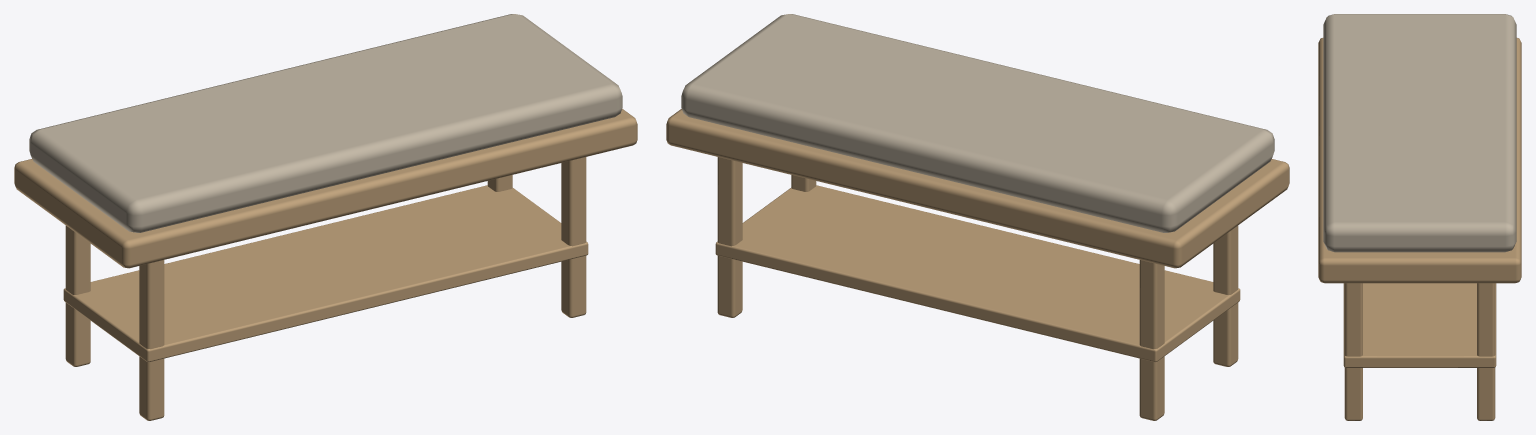
Rendered from bench-balanced-850dfff04f.glb.
The picture shows the model from 3 angles, left to right: view 1: azimuth 30°, elevation 25°; view 2: azimuth 150°, elevation 25°; view 3: azimuth 270°, elevation 25°; orthographic projection. The views are drawn at different scales.
Parts seen in each view (by area): view 1: oak, textile; view 2: oak, textile; view 3: textile, oak.
Boxes of the visible parts, x1,y1,x2,y2 form: oak: (14,109,637,420); textile: (29,14,622,232); oak: (666,109,1289,420); textile: (681,14,1274,232); textile: (1323,14,1516,252); oak: (1318,38,1521,420).
Size of the model in its own units: 1.05 by 0.4515 by 0.4.
